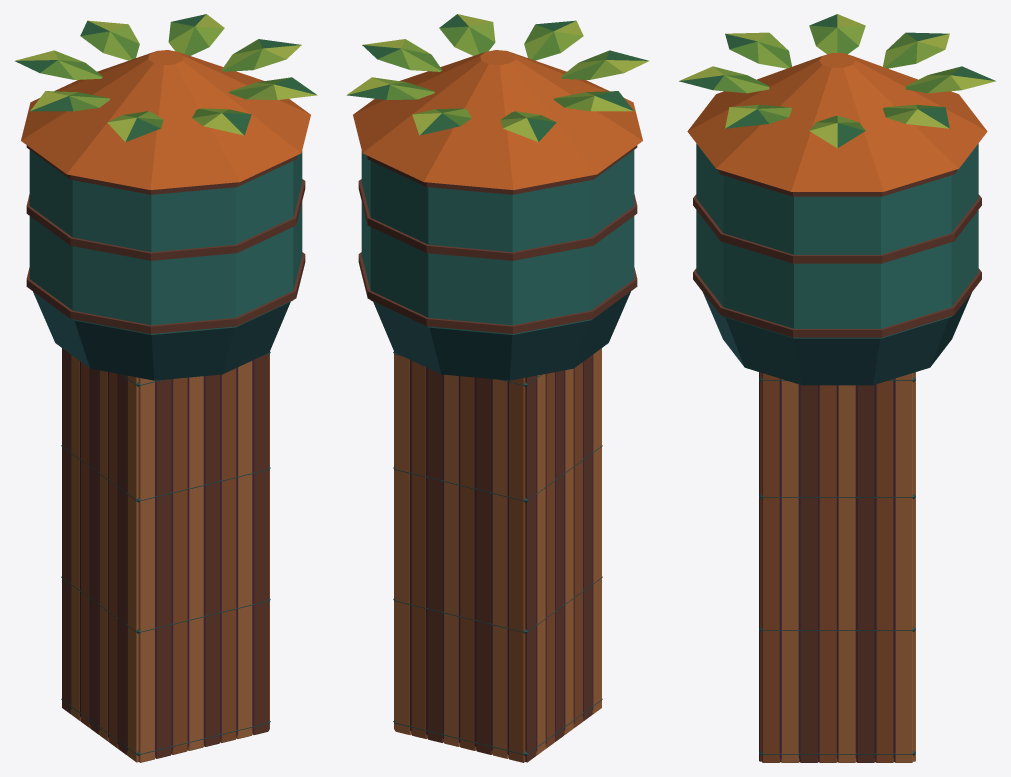
Rendered from grove_water_tower.glb.
The picture shows the model from 3 angles, left to right: view 1: azimuth 30°, elevation 25°; view 2: azimuth 150°, elevation 25°; view 3: azimuth 270°, elevation 25°; orthographic projection.
Parts seen in each view (by area): view 1: grove_water_tower; view 2: grove_water_tower; view 3: grove_water_tower.
Part boxes in pixels (<box>): grove_water_tower: <box>15,14,317,762</box>; grove_water_tower: <box>346,14,648,762</box>; grove_water_tower: <box>679,14,995,762</box>.
Bounding box in the file's own units: 12.08 × 28.2 × 12.08.
